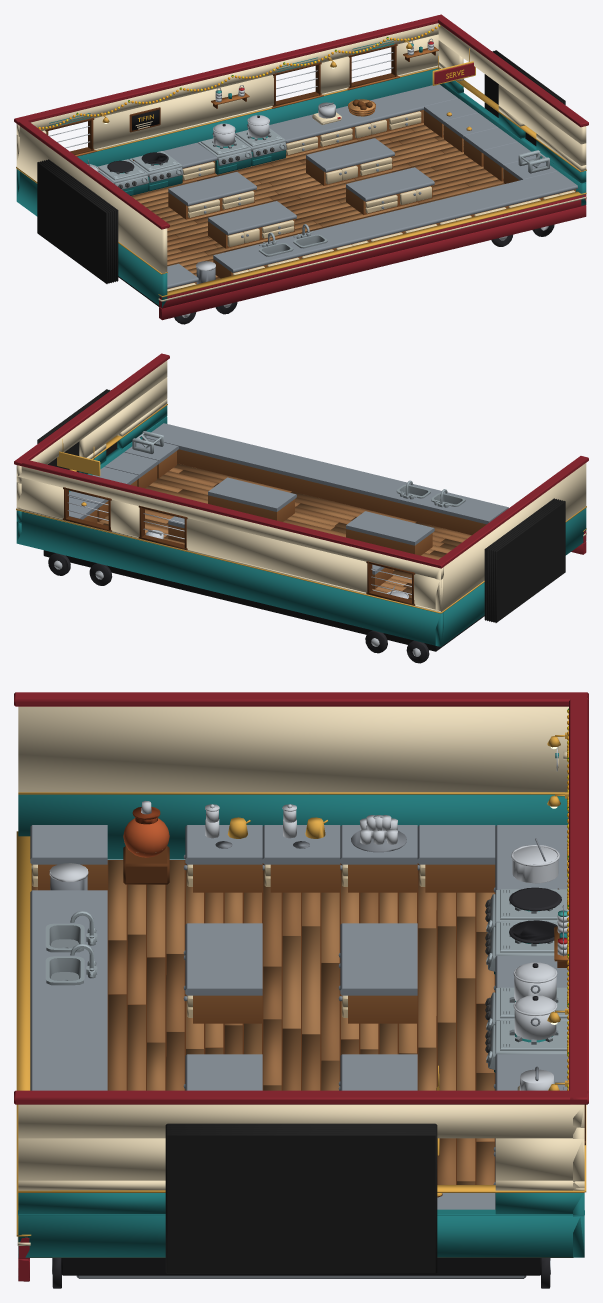
File: kitchen-1.glb
The picture shows the model from 3 angles, top to bottom: view 1: azimuth 30°, elevation 25°; view 2: azimuth 150°, elevation 25°; view 3: azimuth 270°, elevation 25°; orthographic projection. The views are drawn at different scales.
Parts seen in each view (by area): view 1: kitchen; view 2: kitchen; view 3: kitchen.
Boxes of the visible parts, x1,y1,x2,y2 form: kitchen: (14, 14, 588, 324); kitchen: (14, 353, 588, 663); kitchen: (14, 692, 588, 1288).
Size of the model in its own units: 13.33 by 3.15 by 7.42.
36 materials, 5 textured.
